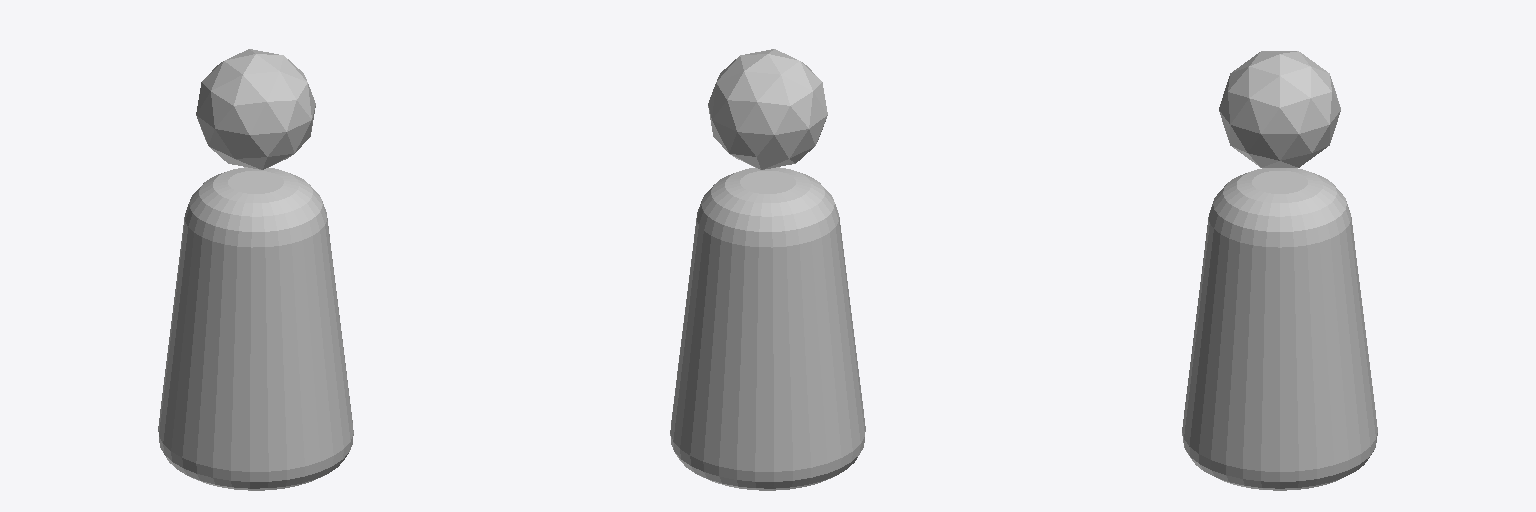
The model's file is Player.obj.
3 views of the same model, side by side, from view 1: azimuth 30°, elevation 25°; view 2: azimuth 150°, elevation 25°; view 3: azimuth 270°, elevation 25° (orthographic).
Parts seen in each view (by area): view 1: Player; view 2: Player; view 3: Player.
Part boxes in pixels (left/top/right/bottom): Player: left=158, top=49, right=353, bottom=490; Player: left=670, top=49, right=865, bottom=490; Player: left=1182, top=51, right=1377, bottom=490.
Size of the model in its own units: 1.93 by 4.4 by 1.93.